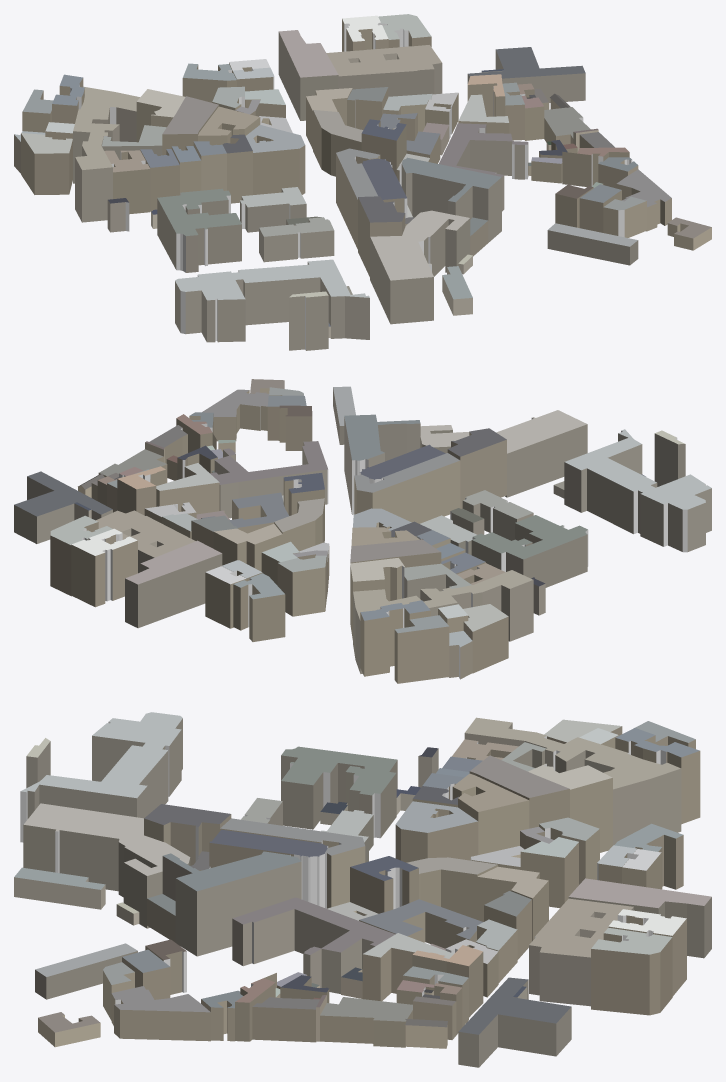
The picture shows the model from 3 angles, top to bottom: view 1: azimuth 30°, elevation 25°; view 2: azimuth 150°, elevation 25°; view 3: azimuth 270°, elevation 25°; orthographic projection. The views are drawn at different scales.
Parts seen in each view (by area): view 1: tuile; view 2: tuile; view 3: tuile.
Boxes of the visible parts, x1,y1,x2,y2 form: tuile: (14, 14, 711, 350); tuile: (14, 379, 711, 683); tuile: (14, 712, 711, 1067).
Bounding box in the file's own units: 292 × 34.78 × 273.
